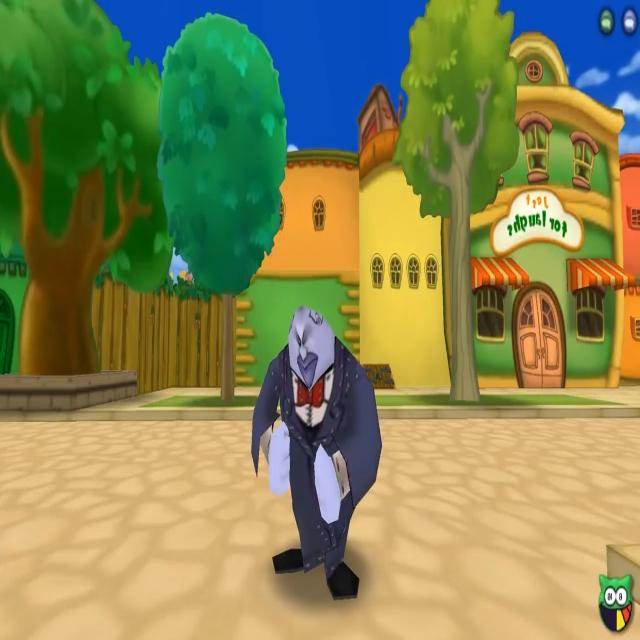bottomfeeder: (242, 287, 394, 602)
